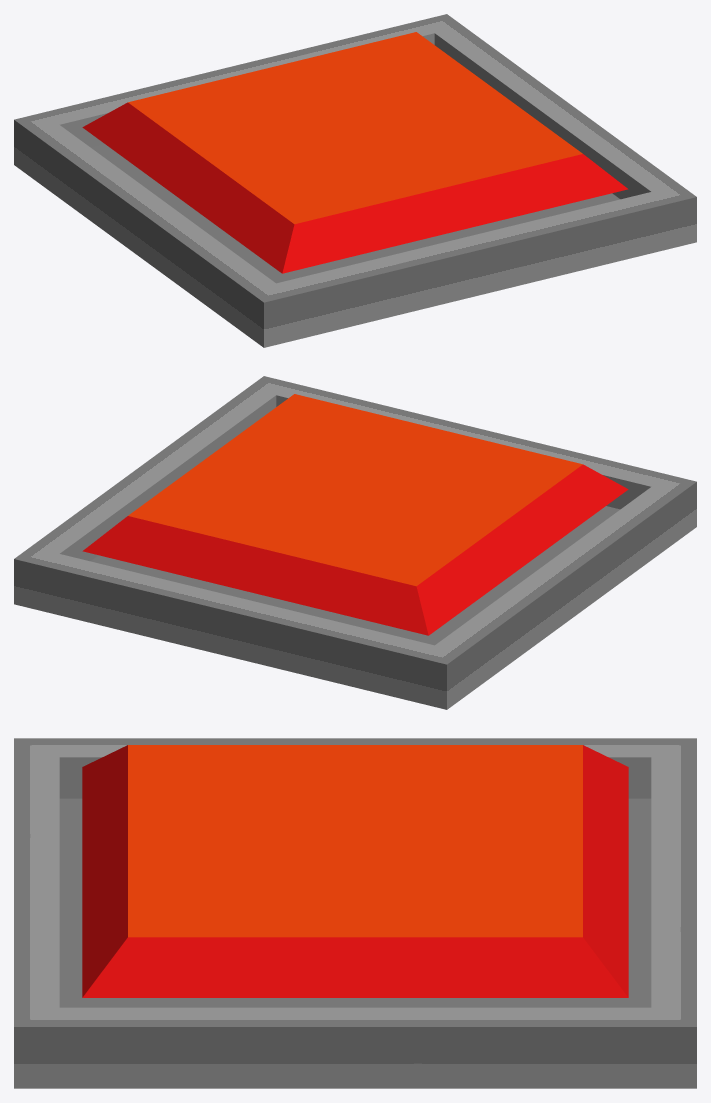
File: button.fbx
3 renders of one model, top to bottom at view 1: azimuth 30°, elevation 25°; view 2: azimuth 150°, elevation 25°; view 3: azimuth 270°, elevation 25°, orthographic. The views are drawn at different scales.
Parts seen in each view (by area): view 1: button_trigger, button_frame; view 2: button_trigger, button_frame; view 3: button_trigger, button_frame.
Part boxes in pixels (x1=…): button_trigger: x1=82, y1=32, x2=628, y2=273; button_frame: x1=14, y1=14, x2=696, y2=347; button_trigger: x1=82, y1=394, x2=628, y2=635; button_frame: x1=14, y1=376, x2=696, y2=709; button_trigger: x1=82, y1=745, x2=628, y2=997; button_frame: x1=14, y1=738, x2=696, y2=1088.
Size of the model in its own units: 300 by 50 by 300.
